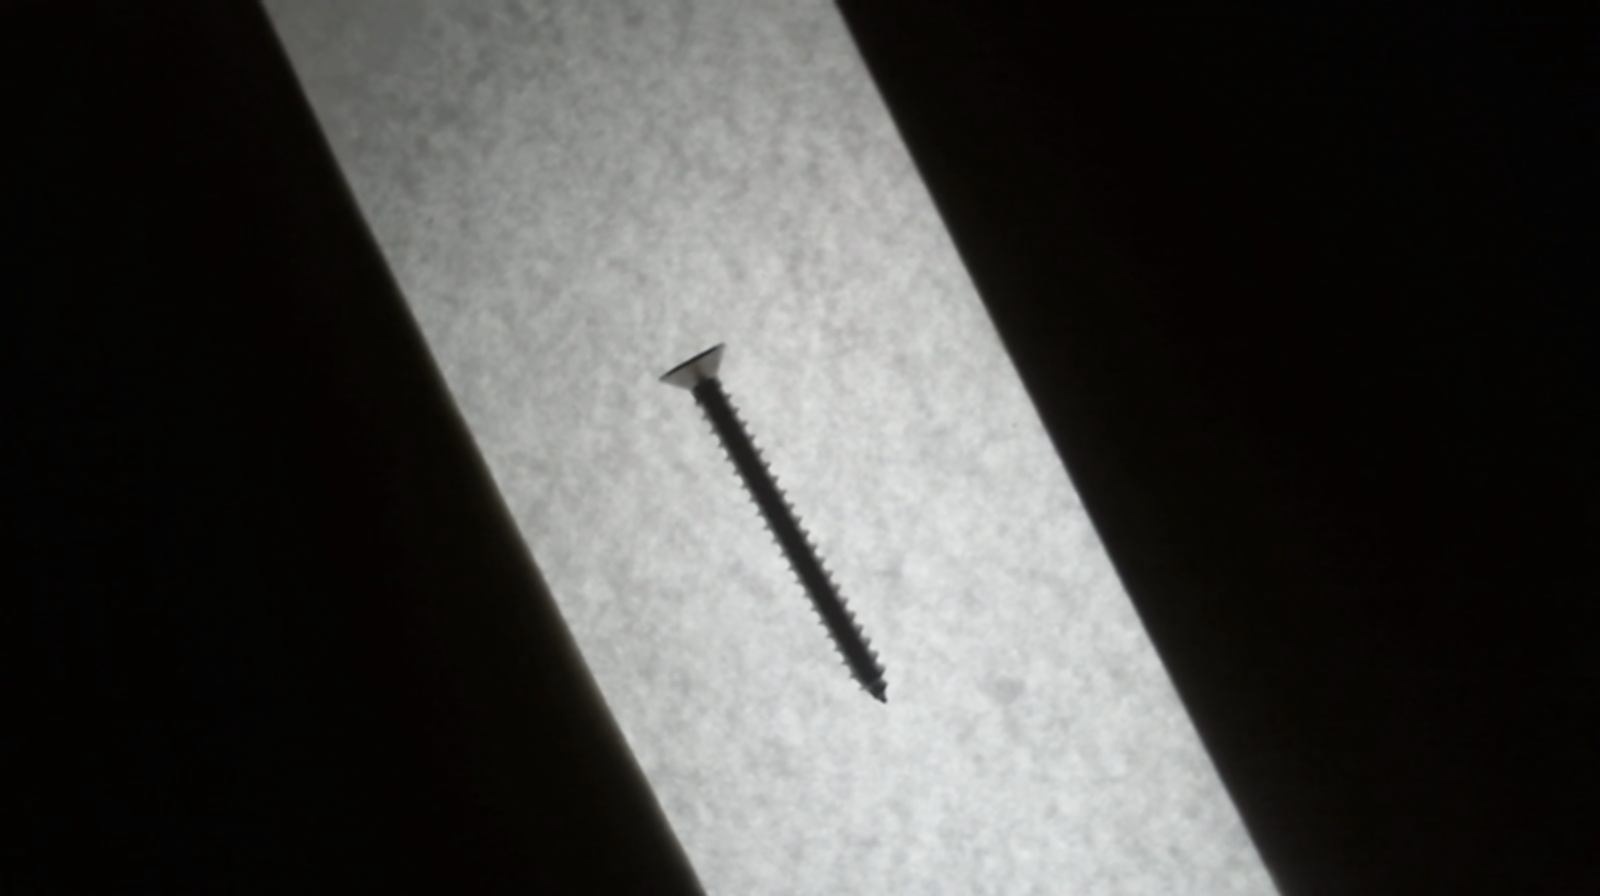S002: (653, 338, 895, 707)
